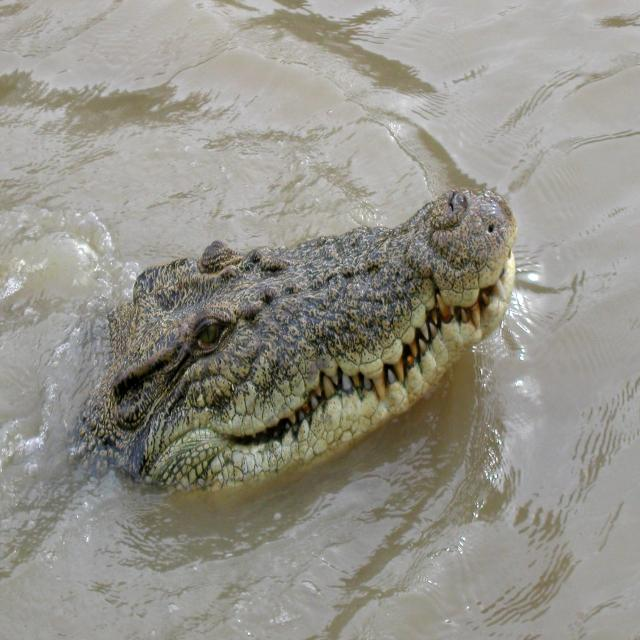crocodile: (65, 176, 522, 507)
